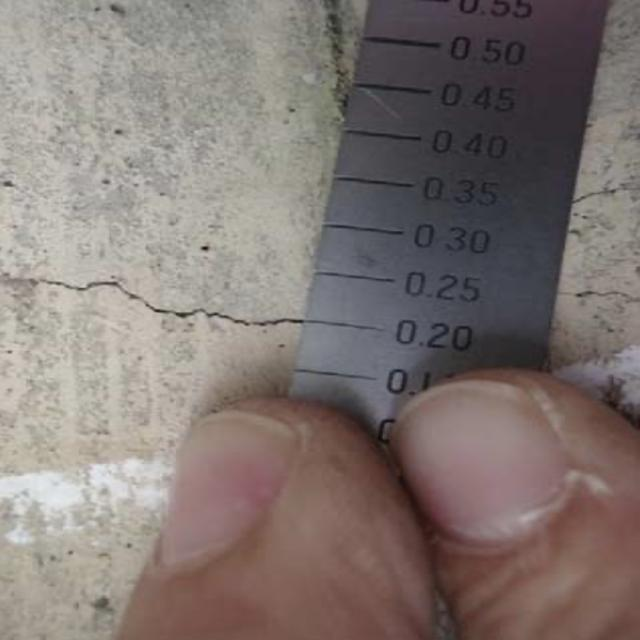crack: (11, 263, 303, 338)
